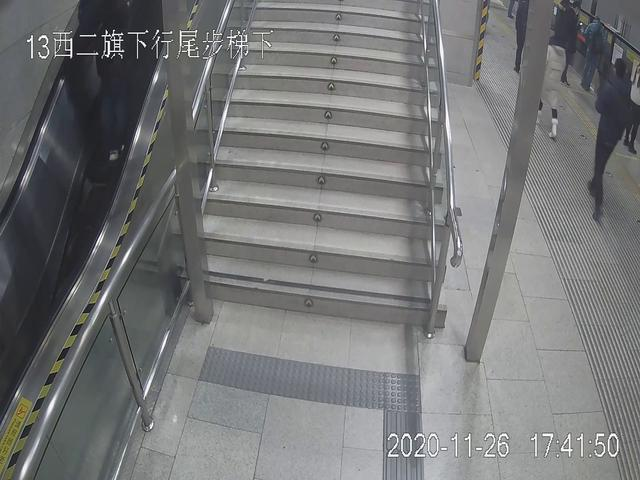person: (587, 55, 631, 222), (524, 34, 566, 141)
